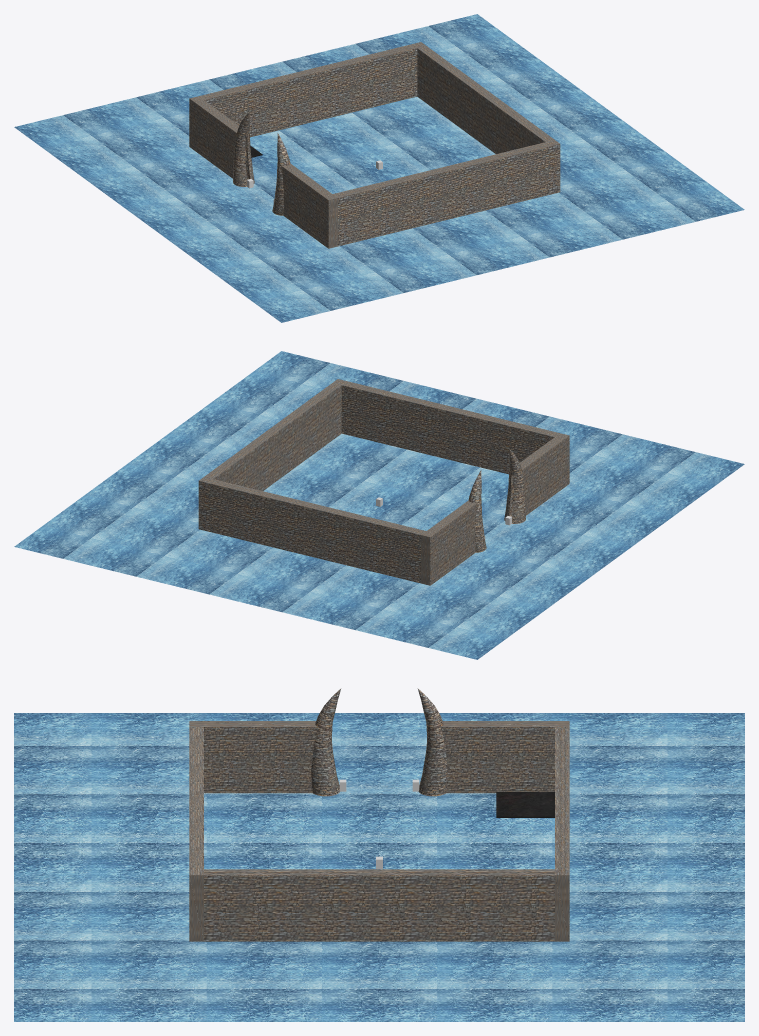
Rendered from anim_icecastle_hitbox.fbx.
The picture shows the model from 3 angles, top to bottom: view 1: azimuth 30°, elevation 25°; view 2: azimuth 150°, elevation 25°; view 3: azimuth 270°, elevation 25°; orthographic projection. The views are drawn at different scales.
Parts seen in each view (by area): view 1: ground, swall, nwall, ewall, ewall2, wwall1, horns; view 2: ground, nwall, swall, ewall, wwall1, ewall2, horns; view 3: ground, ewall, ewall2, wwall1, horns, nwall, swall, elevator.
Boxes of the visible parts, bbox=[...] form: ground: bbox=[14, 14, 744, 322]; swall: bbox=[333, 140, 560, 246]; nwall: bbox=[199, 42, 425, 137]; ewall: bbox=[417, 46, 554, 153]; ewall2: bbox=[281, 163, 337, 248]; wwall1: bbox=[189, 96, 238, 178]; horns: bbox=[233, 112, 290, 215]; ground: bbox=[14, 351, 744, 659]; nwall: bbox=[198, 477, 425, 583]; swall: bbox=[333, 379, 559, 474]; ewall: bbox=[204, 383, 341, 490]; wwall1: bbox=[421, 500, 477, 585]; ewall2: bbox=[520, 433, 569, 515]; horns: bbox=[468, 449, 525, 552]; ground: bbox=[14, 713, 744, 1021]; ewall: bbox=[204, 869, 554, 941]; ewall2: bbox=[189, 721, 318, 793]; wwall1: bbox=[440, 721, 569, 793]; horns: bbox=[311, 688, 447, 796]; nwall: bbox=[555, 727, 569, 941]; swall: bbox=[189, 727, 203, 941]; elevator: bbox=[496, 792, 554, 817].
Size of the model in its own units: 100 by 19.07 by 100.
